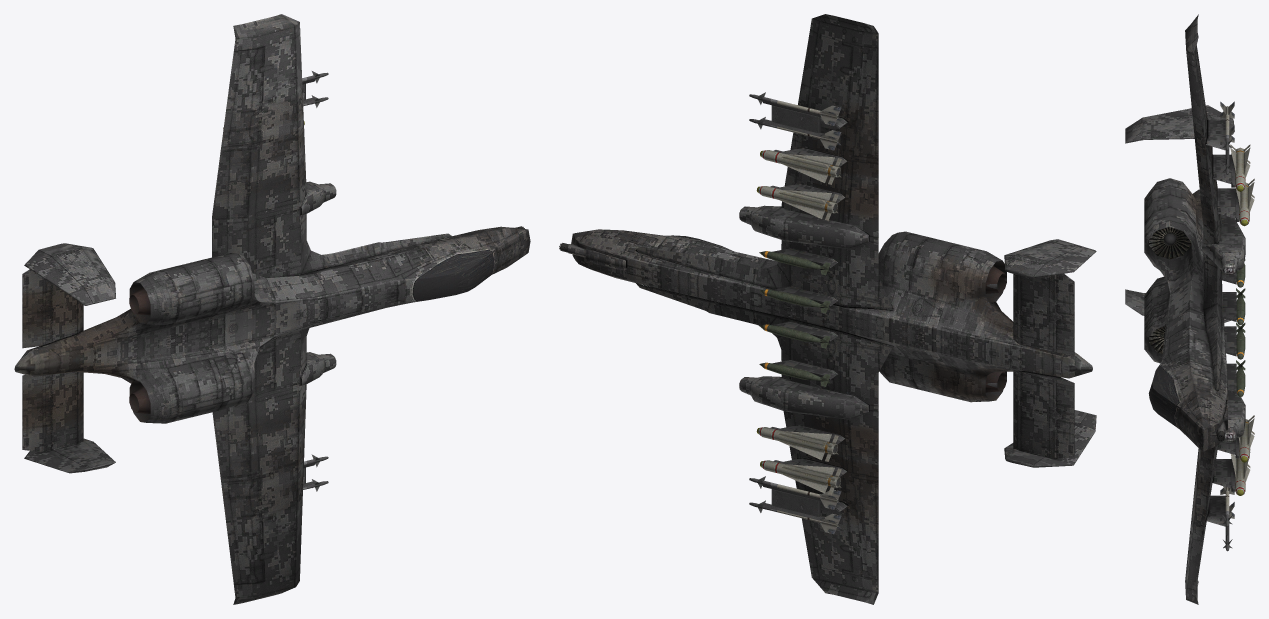
The model's file is veh_t6_air_a10f_alt_LOD1.obj.
The picture shows the model from 3 angles, left to right: view 1: azimuth 30°, elevation 25°; view 2: azimuth 150°, elevation 25°; view 3: azimuth 270°, elevation 25°; orthographic projection. The views are drawn at different scales.
Visible parts, largest first — view 1: mtl_veh_t6_a10f_alt; view 2: mtl_veh_t6_a10f_alt; view 3: mtl_veh_t6_a10f_alt.
Boxes of the visible parts, left/top/right/bottom form: mtl_veh_t6_a10f_alt: left=14, top=14, right=530, bottom=604; mtl_veh_t6_a10f_alt: left=559, top=14, right=1096, bottom=604; mtl_veh_t6_a10f_alt: left=1125, top=14, right=1254, bottom=604.
Size of the model in its own units: 1649 by 1753 by 361.
